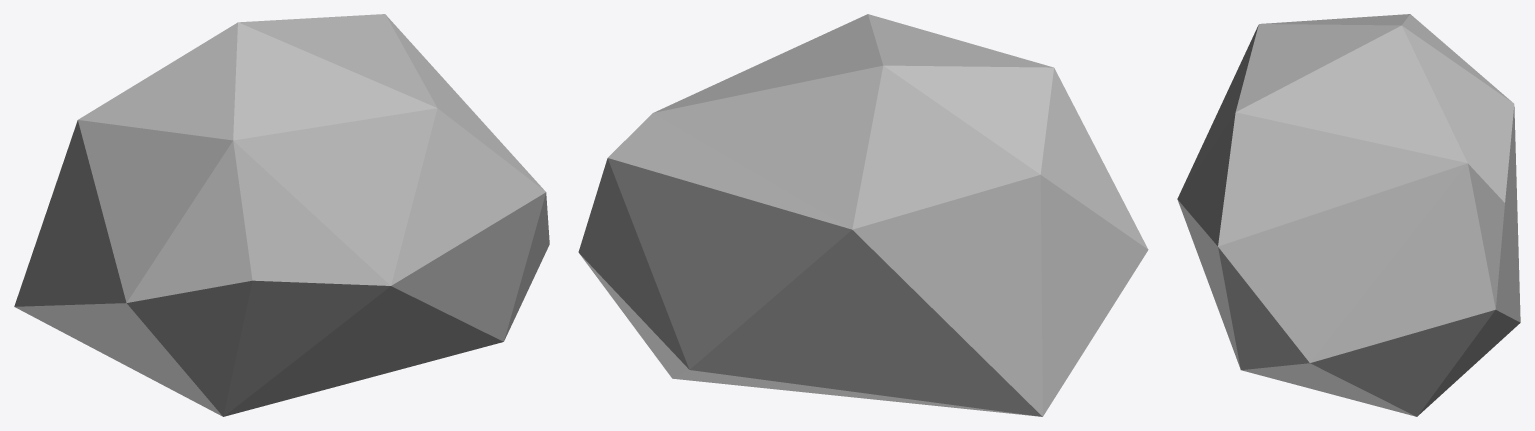
The model's file is Bush_04.fbx.
3 views of the same model, side by side, from view 1: azimuth 30°, elevation 25°; view 2: azimuth 150°, elevation 25°; view 3: azimuth 270°, elevation 25° (orthographic). The views are drawn at different scales.
Visible parts, largest first — view 1: Bush_04; view 2: Bush_04; view 3: Bush_04.
Part boxes in pixels (x1,y1,x2,y2): Bush_04: (14,14,549,416); Bush_04: (578,14,1148,416); Bush_04: (1177,14,1520,416).
Size of the model in its own units: 1.39 by 1.01 by 1.02.
